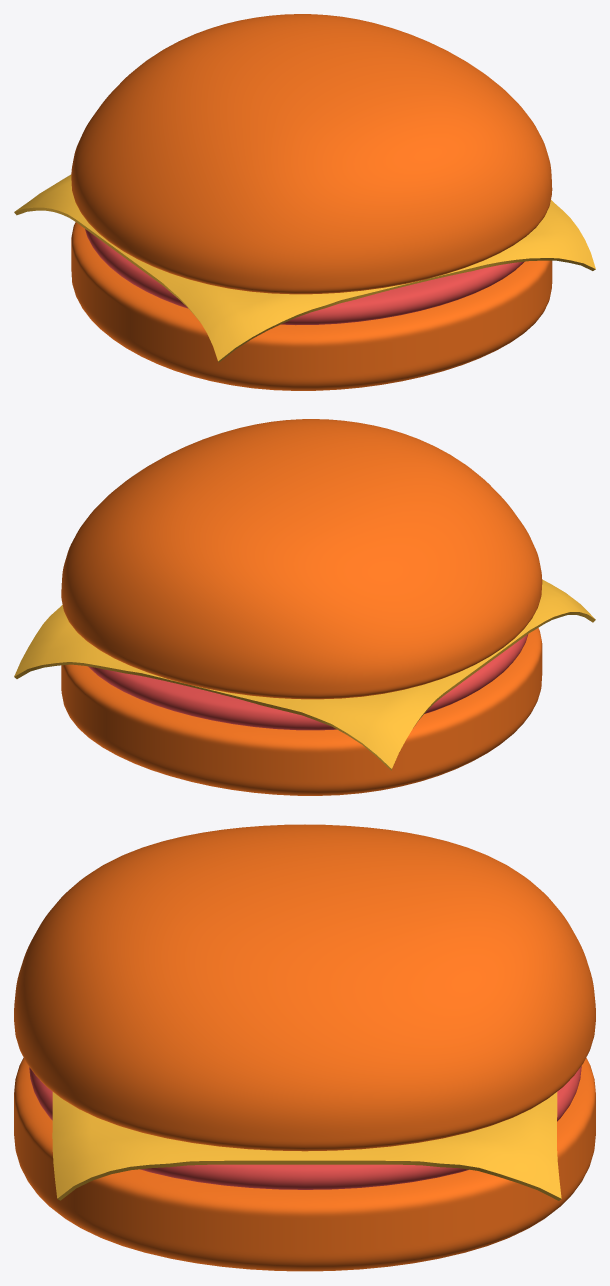
File: hamburger.glb
The picture shows the model from 3 angles, top to bottom: view 1: azimuth 30°, elevation 25°; view 2: azimuth 150°, elevation 25°; view 3: azimuth 270°, elevation 25°; orthographic projection. The views are drawn at different scales.
Parts seen in each view (by area): view 1: Cube.002, Cube, Plane, Cube.001; view 2: Cube.002, Cube, Plane, Cube.001; view 3: Cube.002, Cube, Plane, Cube.001.
Boxes of the visible parts, x1,y1,x2,y2 form: Cube.002: (71, 14, 552, 294); Cube: (71, 222, 552, 390); Plane: (14, 174, 595, 362); Cube.001: (85, 229, 524, 325); Cube.002: (61, 419, 542, 699); Cube: (61, 628, 542, 795); Plane: (14, 579, 595, 770); Cube.001: (88, 634, 528, 730); Cube.002: (14, 824, 595, 1151); Cube: (14, 1057, 595, 1271); Plane: (52, 1092, 561, 1200); Cube.001: (29, 1066, 581, 1189).
Size of the model in its own units: 9.08 by 5.38 by 9.08.
